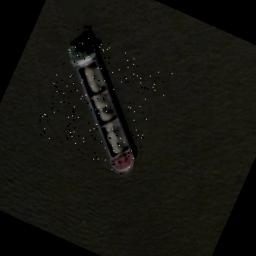boat: (29, 28, 174, 177)
